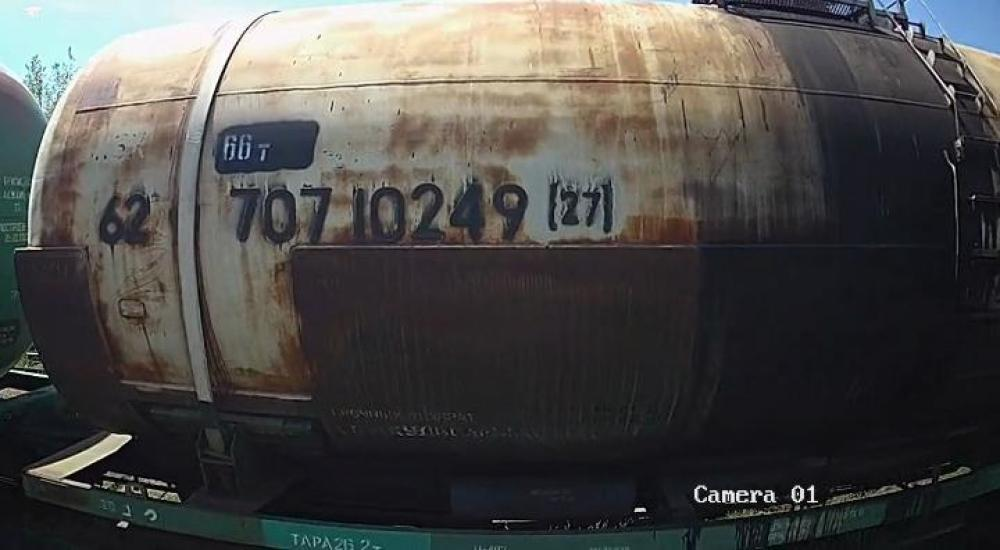Wagon-number: (221, 179, 536, 247)
